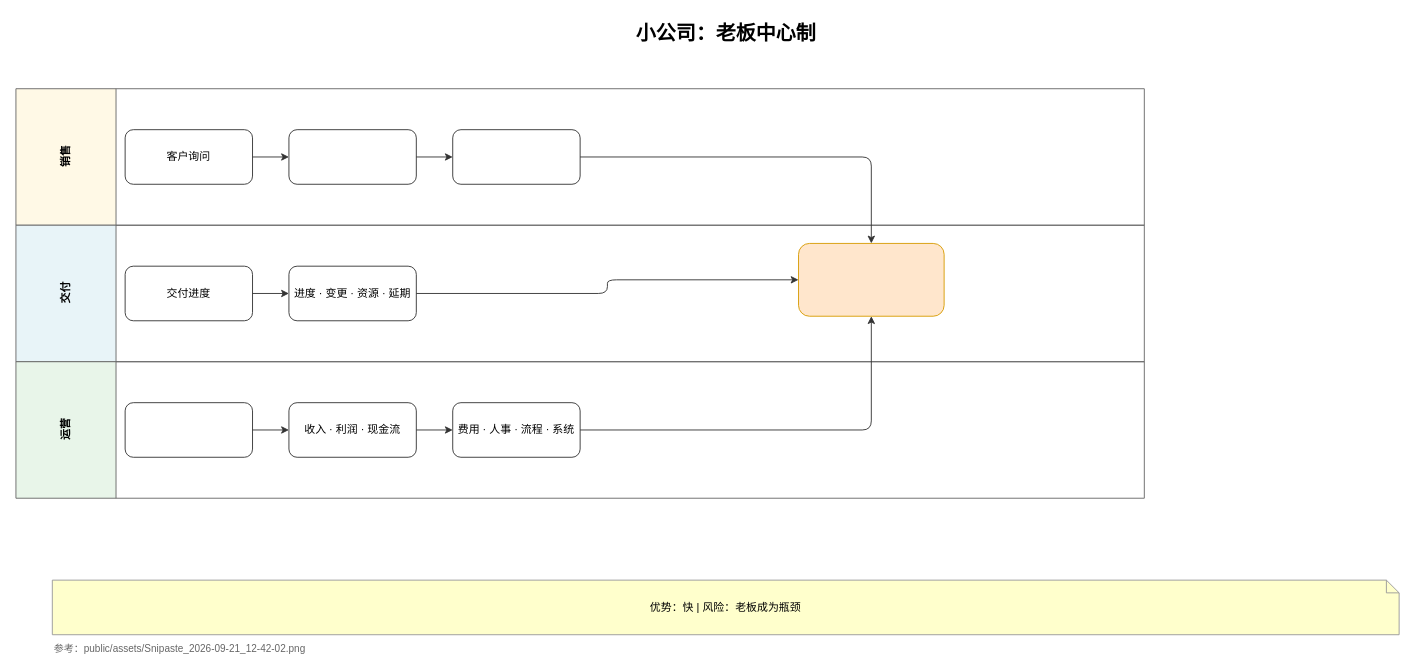
Some shapes in this 1415 by 672 pixel diagram are drawn without their labels. Here are the shapes that lost their labels. From the top down, the centre of each, then its label:
At point 352,156: "需求 · 预算 · 时间".
At point 516,156: "报价 · 合同 · 折扣权".
At point 871,279: "老板拍板 · 本周重点计划 · 待办事项清单 | 决策判断 · 执行力 · 带动能力".
At point 188,429: "运营数据".
